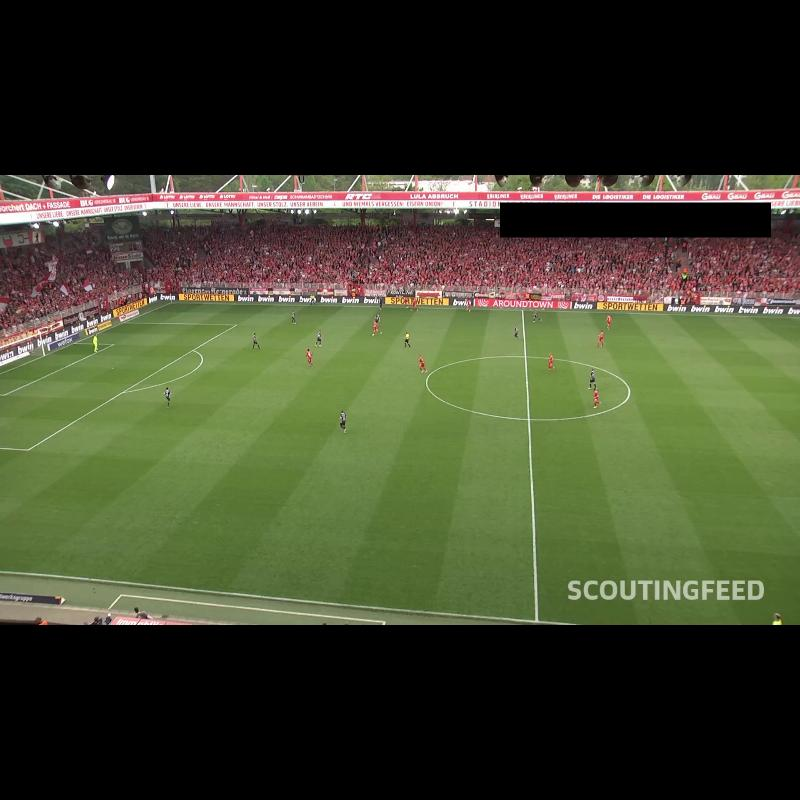cross_recipient_zone: (0, 322, 236, 450)
crossing_player_zone: (0, 448, 161, 573), (125, 303, 343, 328), (709, 316, 800, 340)
pitch: (0, 303, 800, 625)
